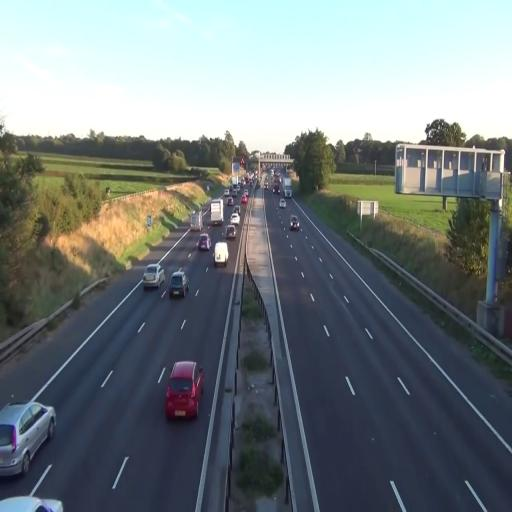vehicle: (0, 400, 56, 479), (164, 360, 204, 421), (169, 269, 188, 300), (143, 264, 163, 289), (214, 241, 228, 267), (198, 234, 210, 252), (291, 217, 300, 232)
